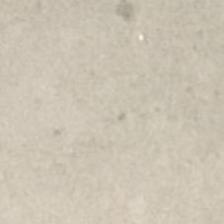Non_Crack: (24, 22, 217, 219)
